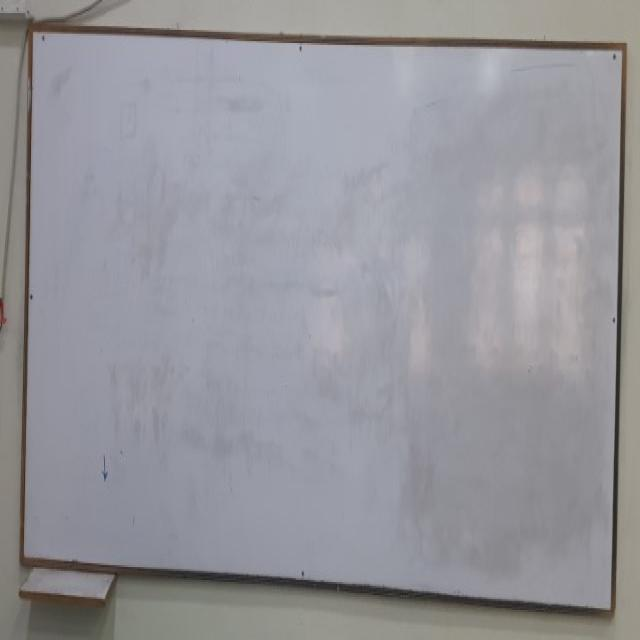White-board: (22, 27, 623, 617)
